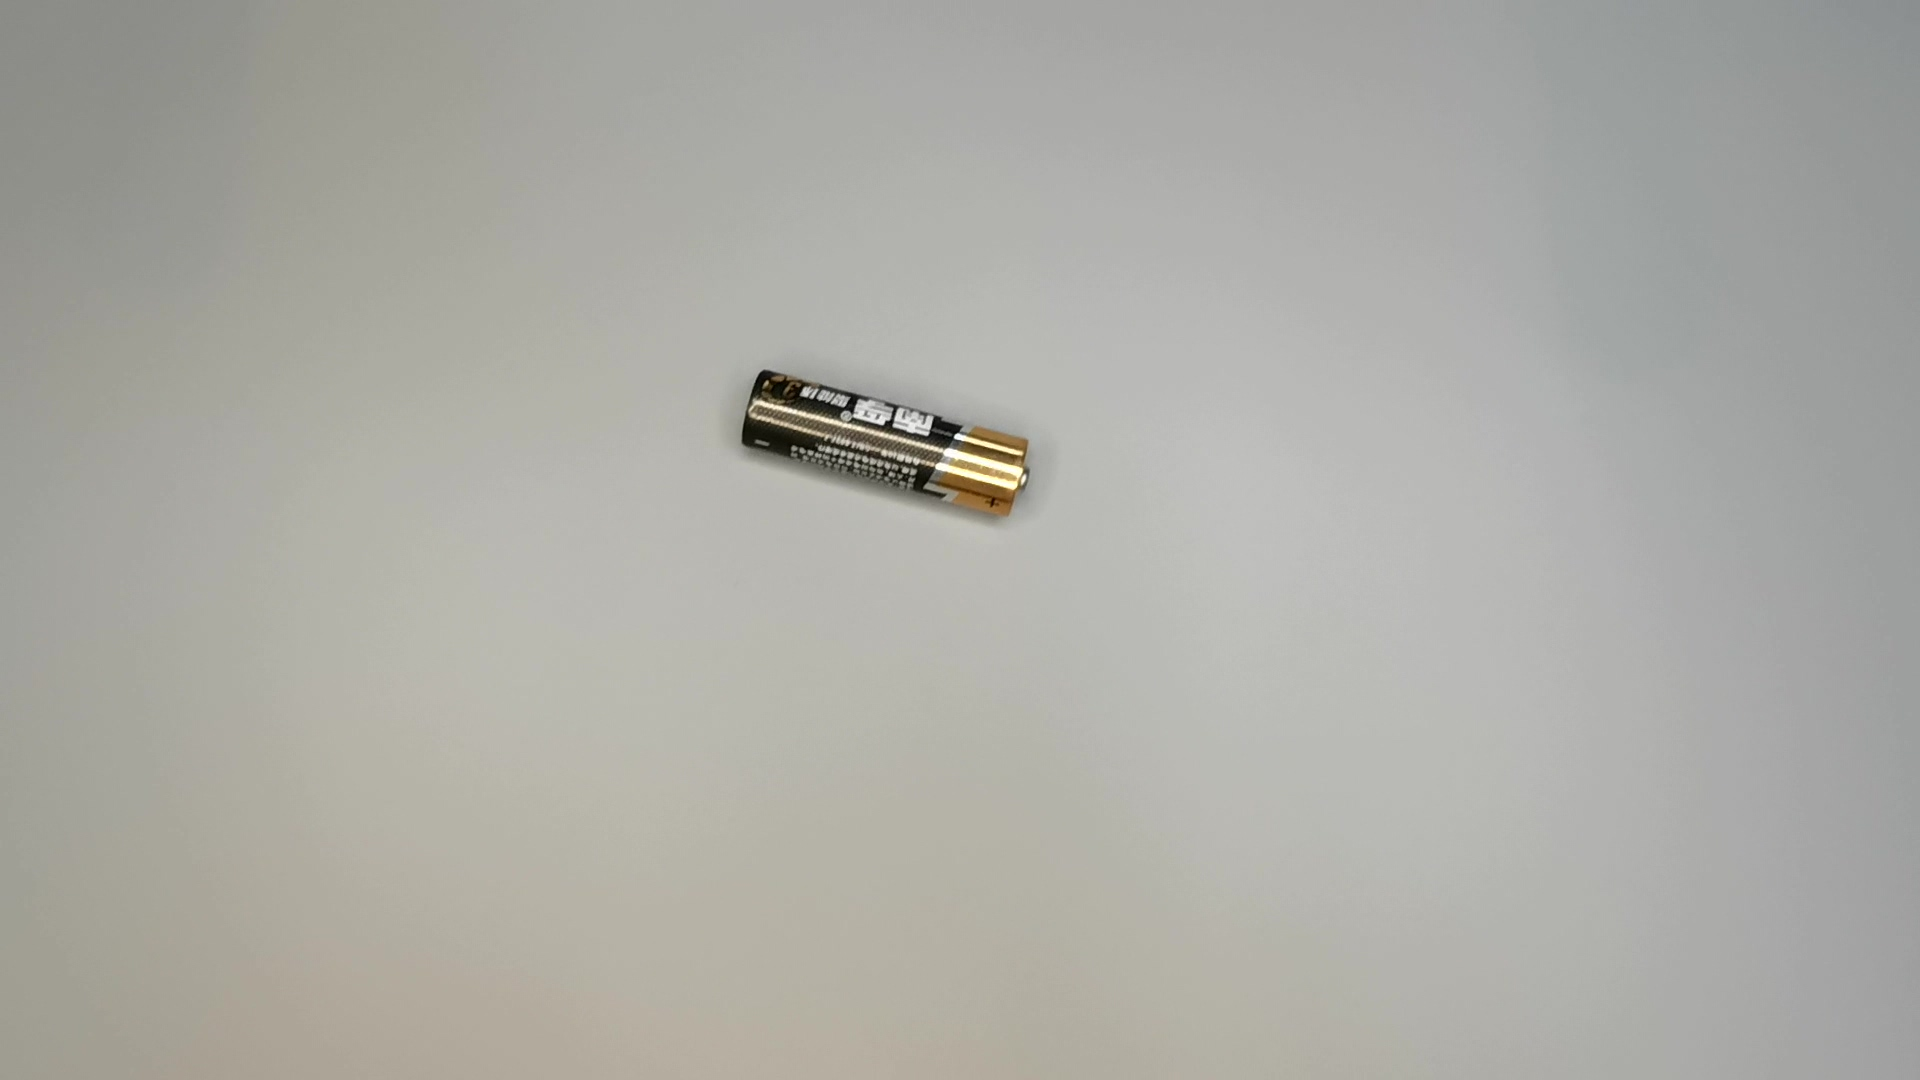battery: (735, 365, 1038, 530)
